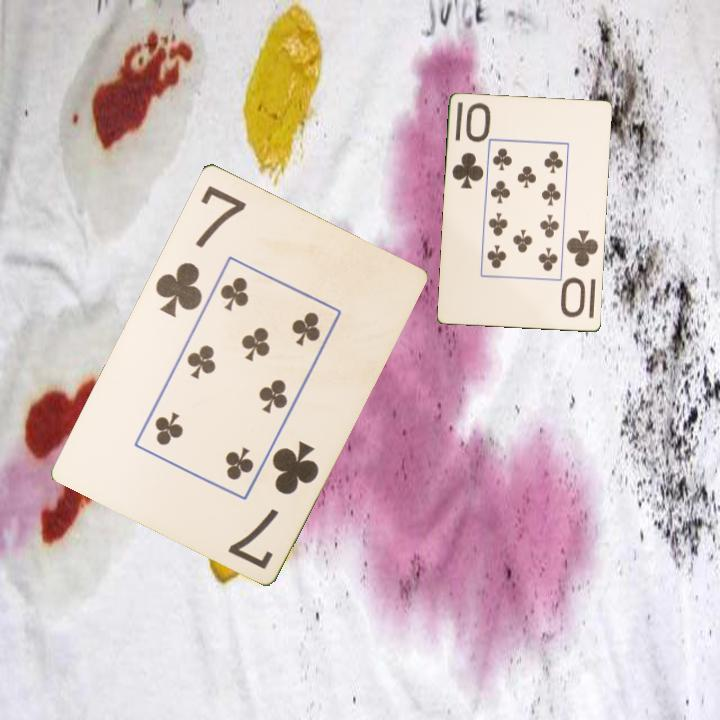10c: (560, 227, 601, 321), (449, 99, 490, 192)
7c: (151, 181, 249, 320), (224, 436, 322, 572)
